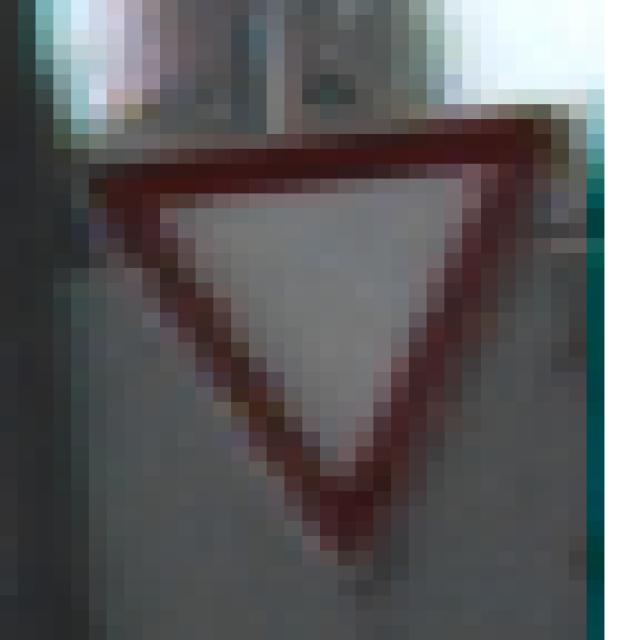Give Way: (90, 76, 588, 567)
